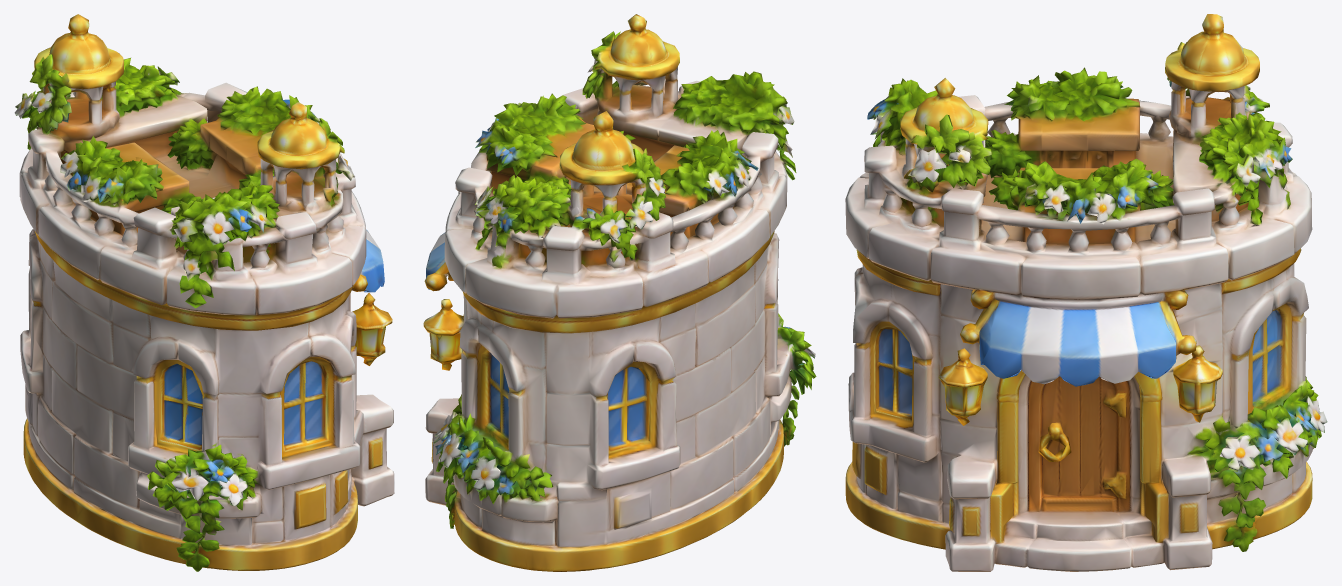
Rendered from HaloDomeHouse_01_HD_src.glb.
The picture shows the model from 3 angles, left to right: view 1: azimuth 30°, elevation 25°; view 2: azimuth 150°, elevation 25°; view 3: azimuth 270°, elevation 25°; orthographic projection. The views are drawn at different scales.
Visible parts, largest first — view 1: tripo_node_b2ade7e3-15e5-4226-949d-063a99e60c56; view 2: tripo_node_b2ade7e3-15e5-4226-949d-063a99e60c56; view 3: tripo_node_b2ade7e3-15e5-4226-949d-063a99e60c56.
Part boxes in pixels (<box>): tripo_node_b2ade7e3-15e5-4226-949d-063a99e60c56: <box>14,14,394,571</box>; tripo_node_b2ade7e3-15e5-4226-949d-063a99e60c56: <box>423,14,816,571</box>; tripo_node_b2ade7e3-15e5-4226-949d-063a99e60c56: <box>845,14,1327,571</box>.
Size of the model in its own units: 0.6969 by 0.9806 by 0.9181.
Materials: 1 (1 with a texture image).
